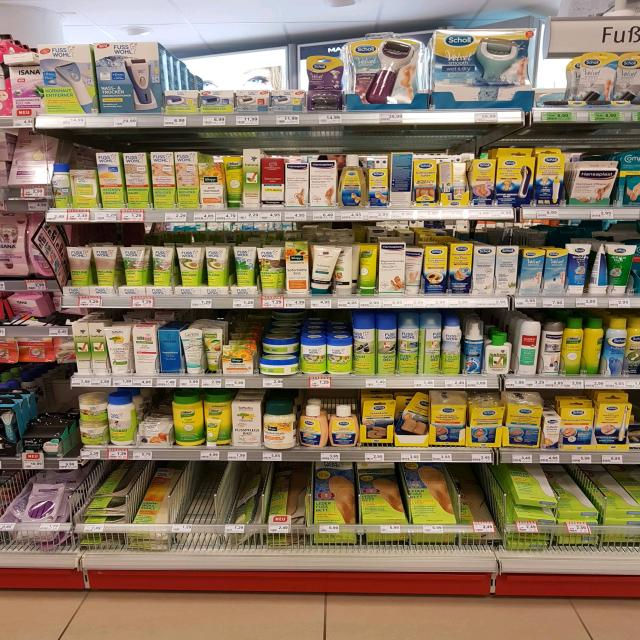unorganised: (313, 242, 357, 297), (298, 401, 329, 449), (394, 394, 429, 434), (589, 243, 611, 297), (357, 243, 379, 295), (585, 315, 603, 378), (202, 327, 221, 370), (262, 339, 299, 357)
